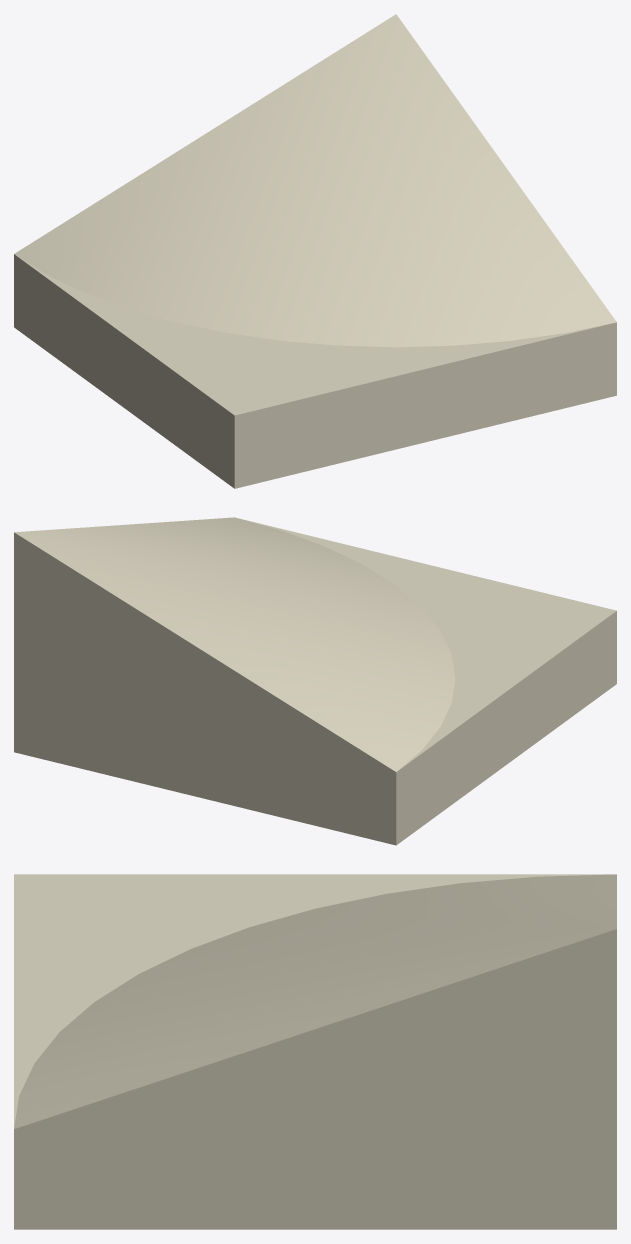
Rendered from tile264.fbx.
The picture shows the model from 3 angles, top to bottom: view 1: azimuth 30°, elevation 25°; view 2: azimuth 150°, elevation 25°; view 3: azimuth 270°, elevation 25°; orthographic projection. The views are drawn at different scales.
Visible parts, largest first — view 1: tile264; view 2: tile264; view 3: tile264.
Boxes of the visible parts, bbox=[...] form: tile264: bbox=[14, 14, 616, 488]; tile264: bbox=[14, 517, 616, 845]; tile264: bbox=[14, 874, 616, 1229].
Size of the model in its own units: 10 by 5.5 by 10.
